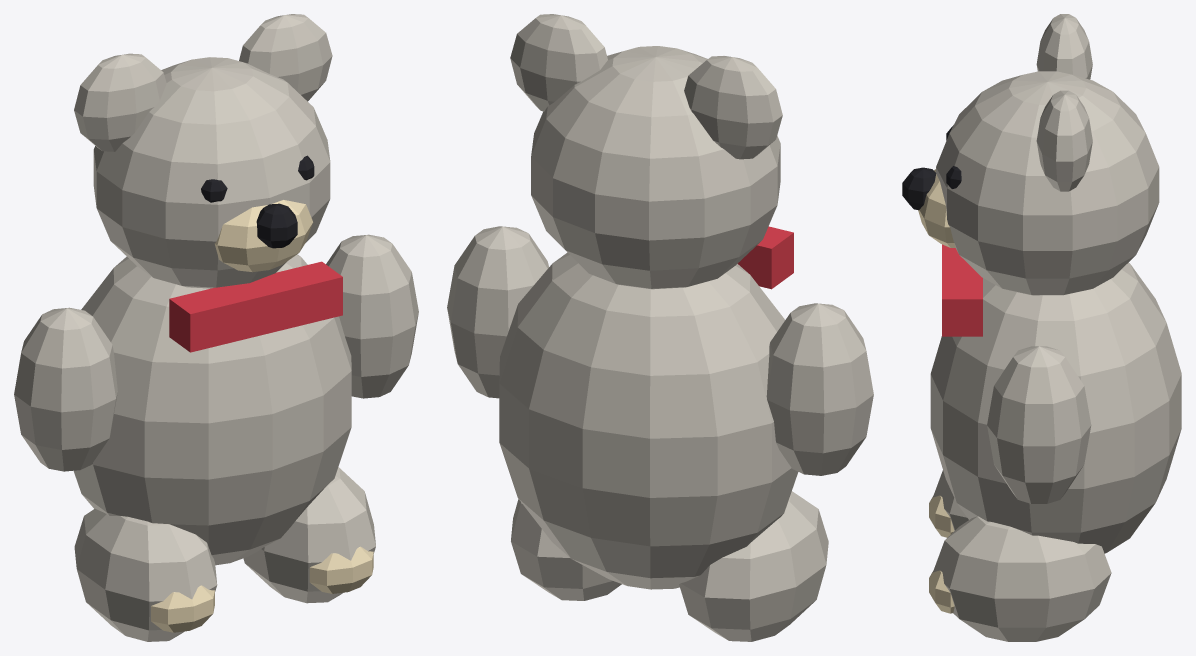
Rendered from toy_bear.glb.
The picture shows the model from 3 angles, left to right: view 1: azimuth 30°, elevation 25°; view 2: azimuth 150°, elevation 25°; view 3: azimuth 270°, elevation 25°; orthographic projection. The views are drawn at different scales.
Parts seen in each view (by area): view 1: toy_bear; view 2: toy_bear; view 3: toy_bear.
Part boxes in pixels (<box>): toy_bear: <box>14,14,418,641</box>; toy_bear: <box>447,14,873,641</box>; toy_bear: <box>902,14,1181,641</box>.
Bounding box in the file's own units: 0.2542 × 0.352 × 0.164.
